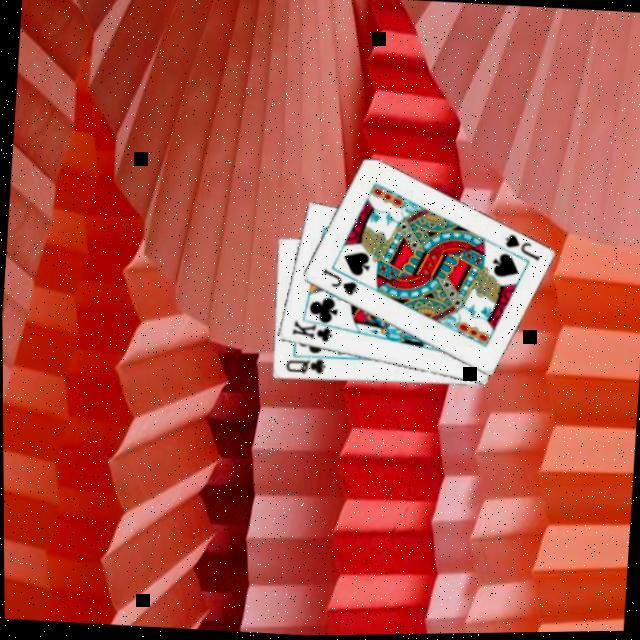JS: (318, 266, 362, 302), (501, 232, 545, 268)
KC: (288, 316, 342, 349)
QC: (282, 356, 330, 381)
